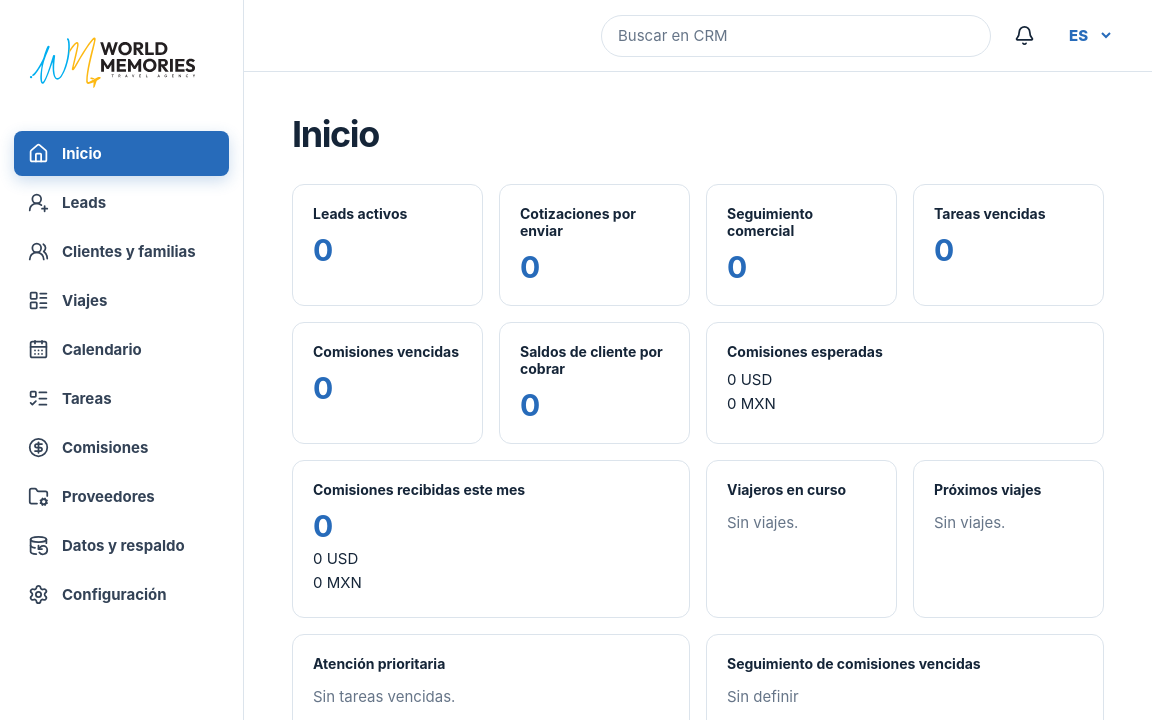
application shell › uses a hash URL for navigation and restores the addressed module
Click the button "Calendario": (122,350) [14, 327, 229, 372]
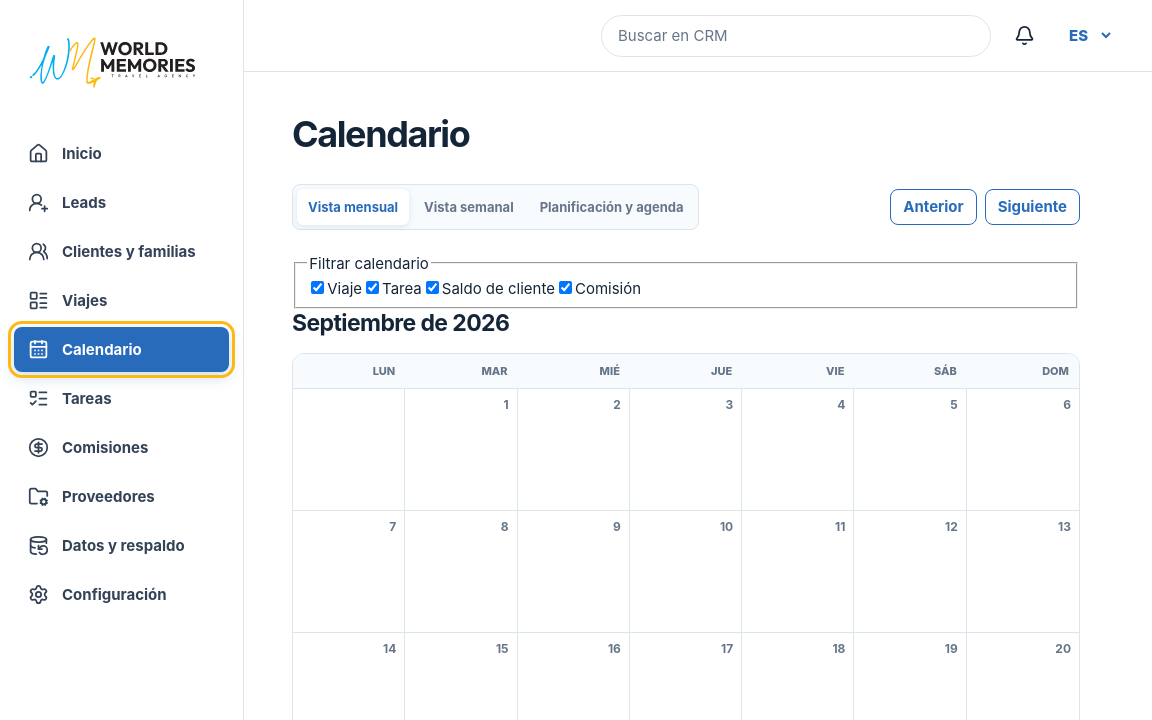
expect the heading "Calendario" is shown: met, box [292, 116, 469, 154]
